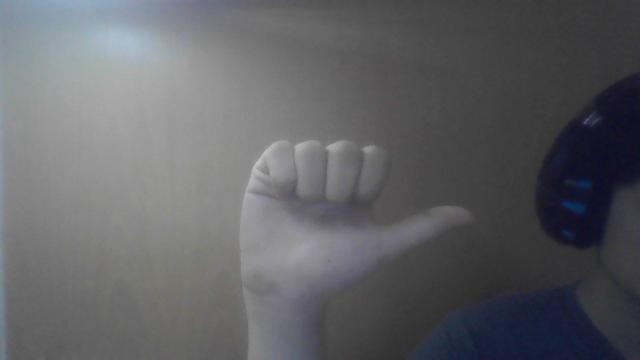left: (233, 134, 482, 307)
